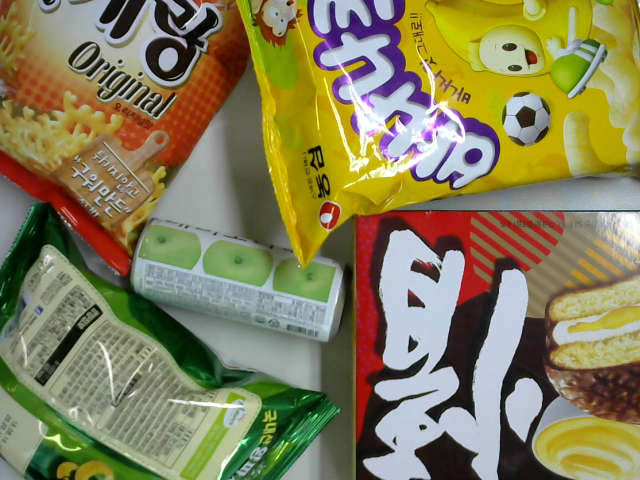Banana_Kick: (234, 1, 640, 272)
Choco_Pie_Banana: (352, 207, 640, 479)
Crabrang: (1, 1, 253, 284)
Demisoda_Apple_Can_250ml: (126, 219, 350, 346)
Grilled_Onions: (1, 193, 344, 480)
